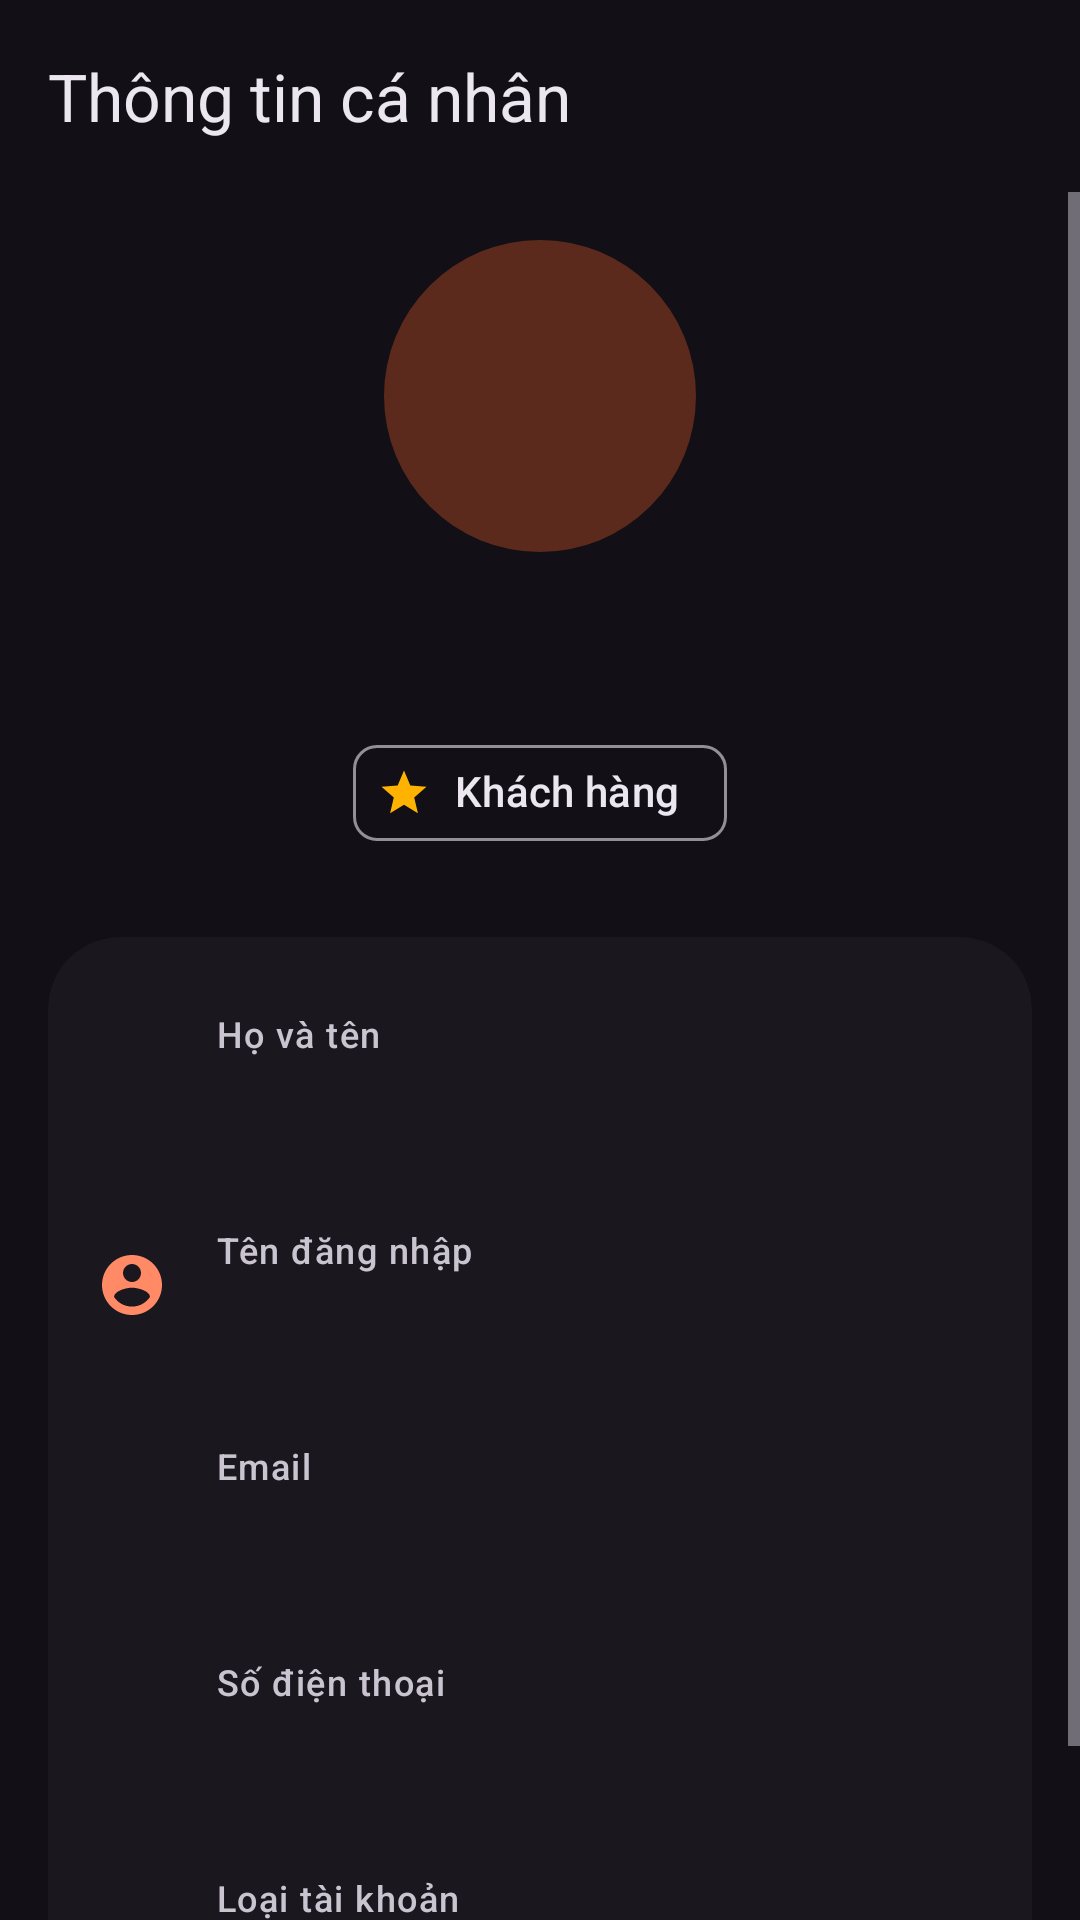

Icon bounding boxes for this 1080 x 1920 phone screenshot, format box(x1, y1, x2, y2):
account: box(102, 1255, 162, 1315)
